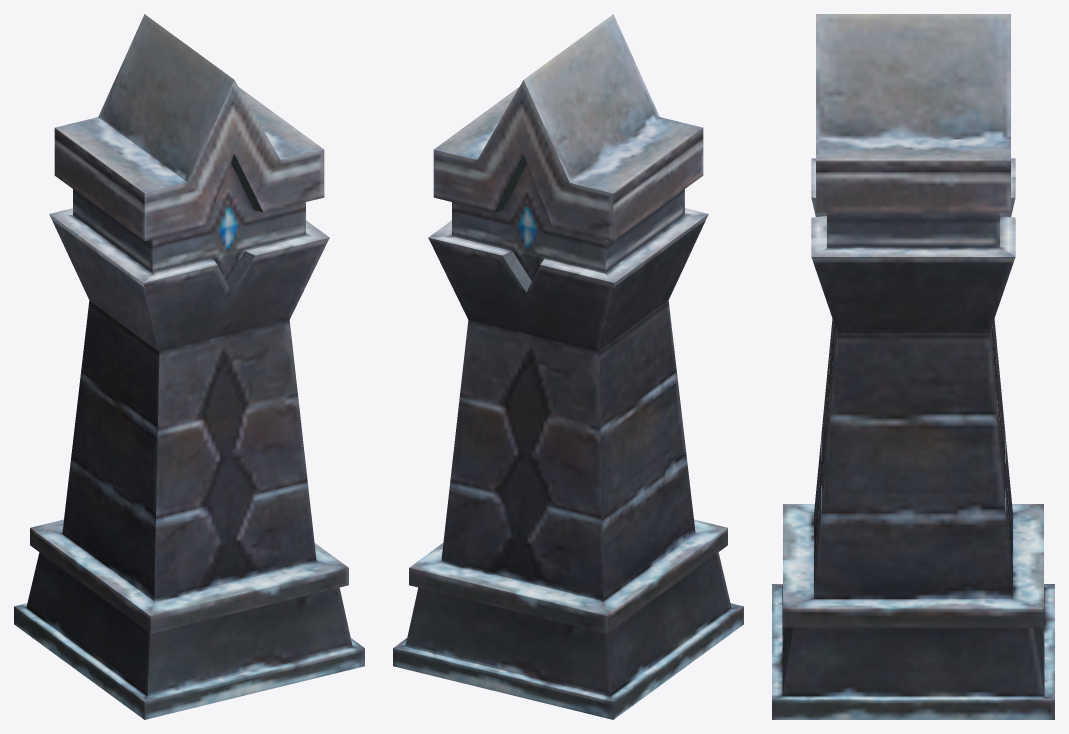
Rendered from yw_anxizhidi_damen03.FBX.
The picture shows the model from 3 angles, left to right: view 1: azimuth 30°, elevation 25°; view 2: azimuth 150°, elevation 25°; view 3: azimuth 270°, elevation 25°; orthographic projection. The views are drawn at different scales.
Parts seen in each view (by area): view 1: yw_anxizhidi_damen03; view 2: yw_anxizhidi_damen03; view 3: yw_anxizhidi_damen03.
Boxes of the visible parts, box(x1,y1,x2,y2) form: yw_anxizhidi_damen03: box(14, 14, 364, 719); yw_anxizhidi_damen03: box(393, 14, 743, 719); yw_anxizhidi_damen03: box(772, 14, 1054, 719).
Bounding box in the file's own units: 198 × 514 × 203.
